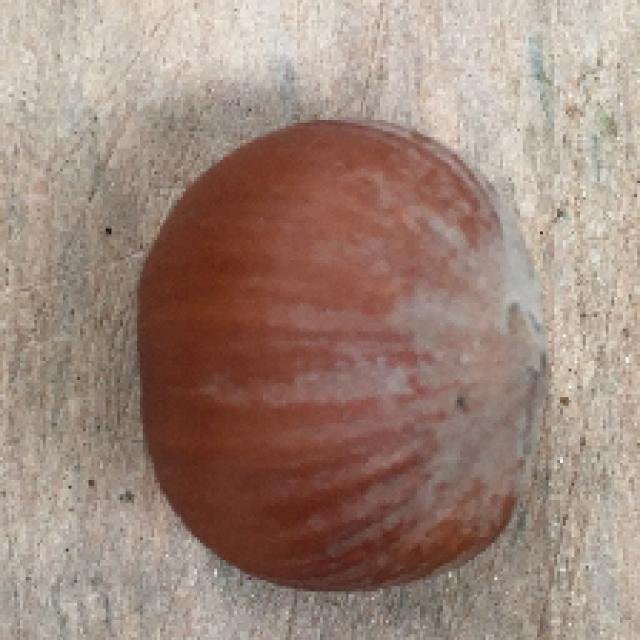qualityHazelnut: (117, 107, 559, 602)
